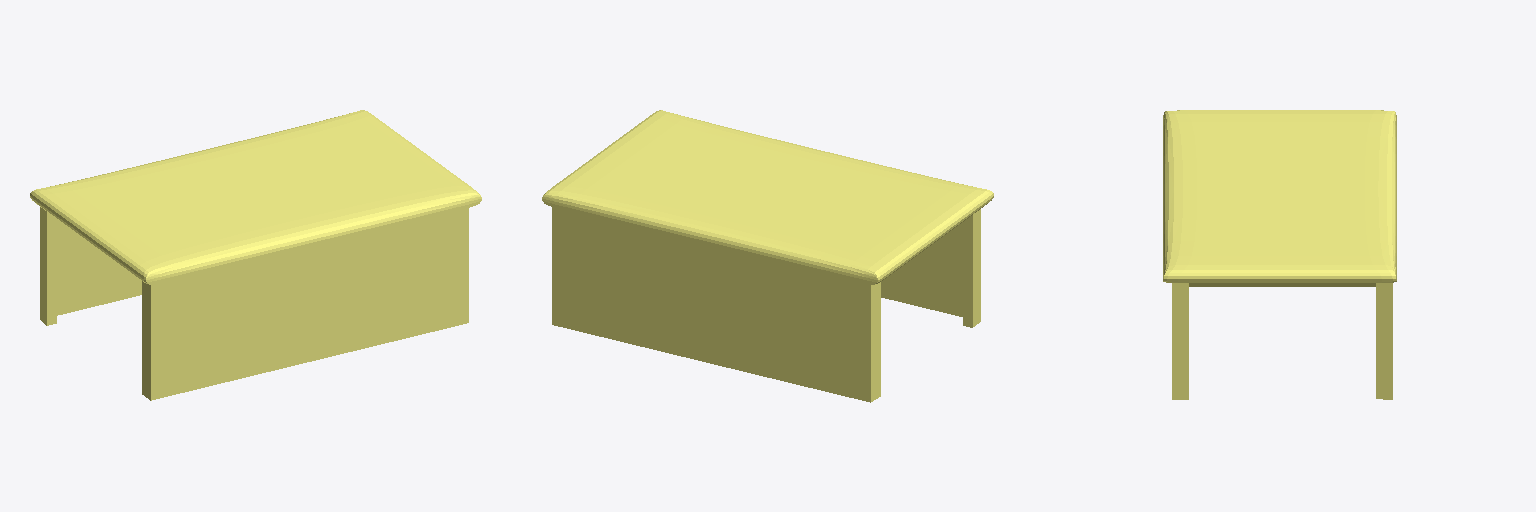
3 views of the same model, side by side, from view 1: azimuth 30°, elevation 25°; view 2: azimuth 150°, elevation 25°; view 3: azimuth 270°, elevation 25° (orthographic).
Parts seen in each view (by area): view 1: 3_Cube.002, 2_Cube.001; view 2: 3_Cube.002, 2_Cube.001; view 3: 2_Cube.001, 3_Cube.002.
Part boxes in pixels (bbox=[...]): 3_Cube.002: bbox=[40, 207, 468, 400]; 2_Cube.001: bbox=[30, 110, 481, 284]; 3_Cube.002: bbox=[552, 207, 980, 402]; 2_Cube.001: bbox=[542, 110, 993, 284]; 2_Cube.001: bbox=[1163, 110, 1396, 282]; 3_Cube.002: bbox=[1172, 283, 1392, 399].
Bounding box in the file's own units: 3.18 × 1.2 × 1.9.
2 materials, 1 textured.